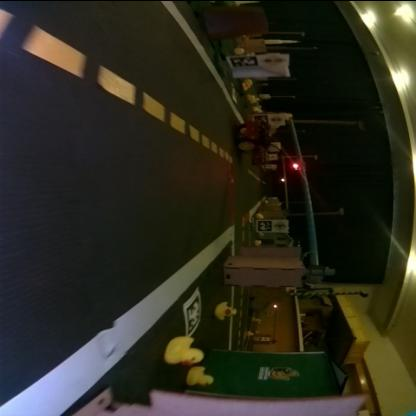Duckie: (164, 334, 204, 362), (187, 366, 214, 385), (216, 301, 238, 318), (243, 82, 251, 88), (246, 330, 254, 336), (255, 238, 262, 244), (256, 211, 264, 216)
Duckiebot: (238, 119, 272, 164)
Intersection sign: (276, 219, 288, 229)
QR code: (184, 290, 202, 334), (230, 55, 254, 65), (257, 219, 273, 230)
Signal sign: (260, 52, 288, 66)
Traffic light: (281, 175, 288, 181)
